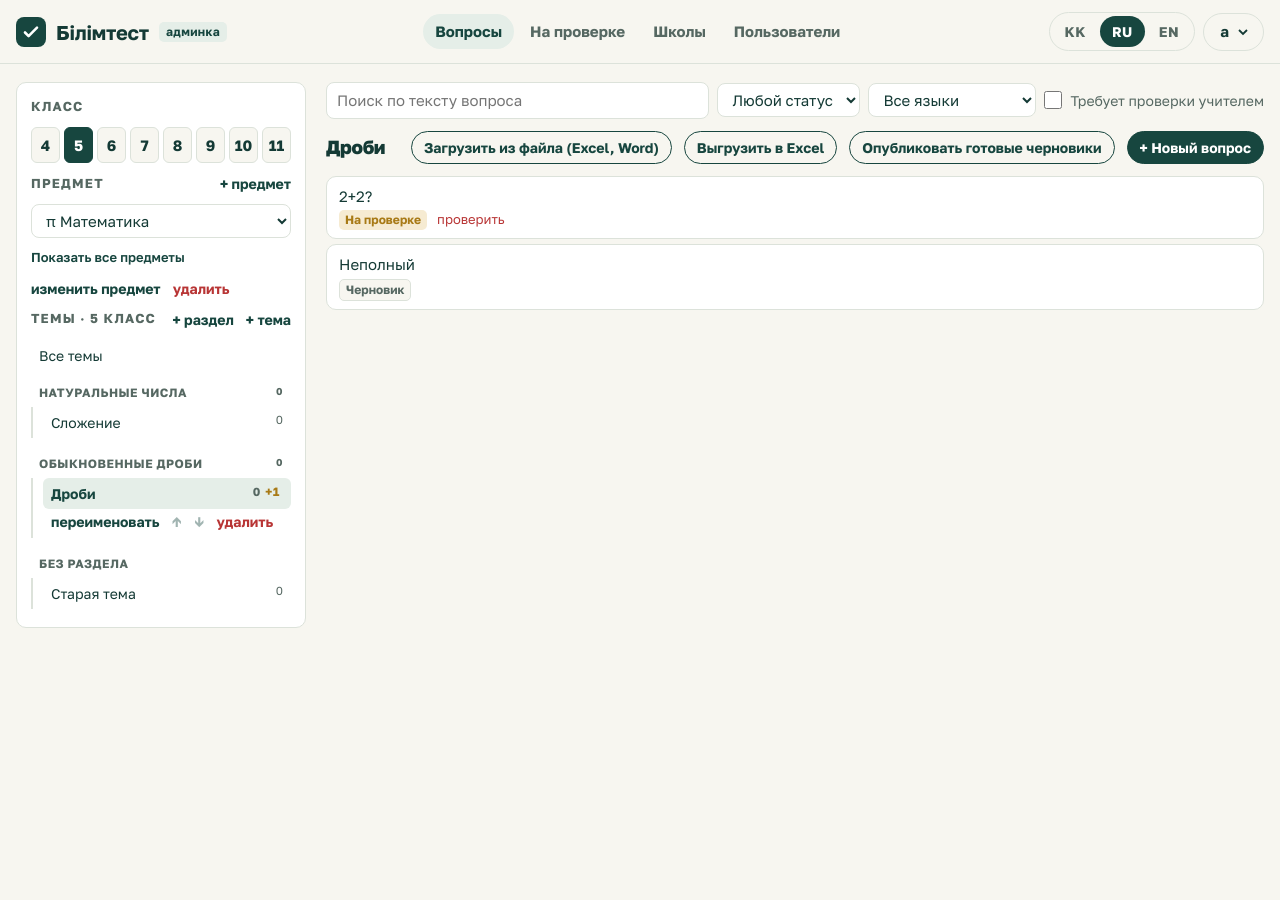
Test: админка › админ публикует вопрос из очереди проверки, сменив правильный ответ
Click the link "На проверке".
click(578, 31)  # box [530,22,625,40]
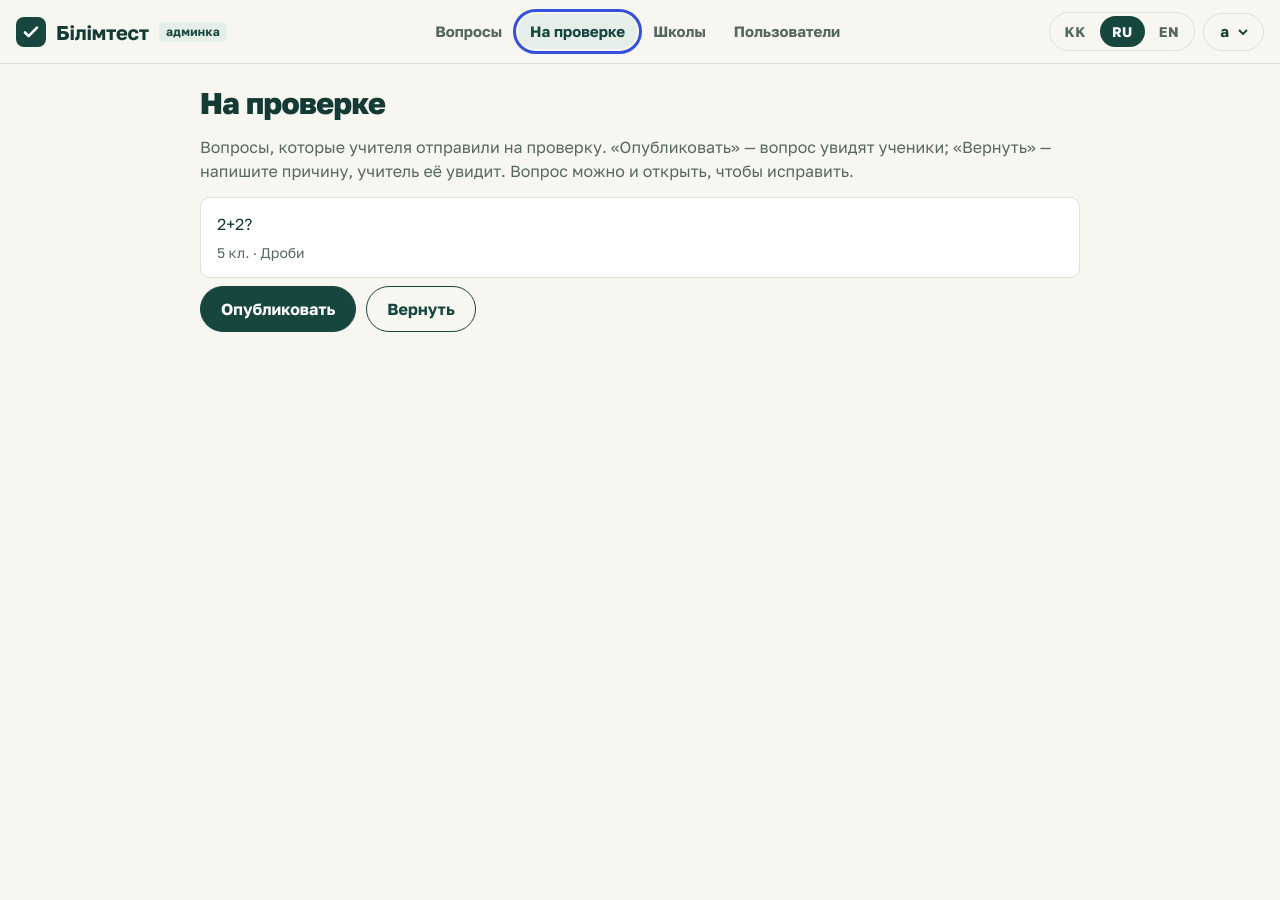
Click the link "2+2? 5 кл. · Дроби".
click(235, 224)  # box [200,196,1080,278]
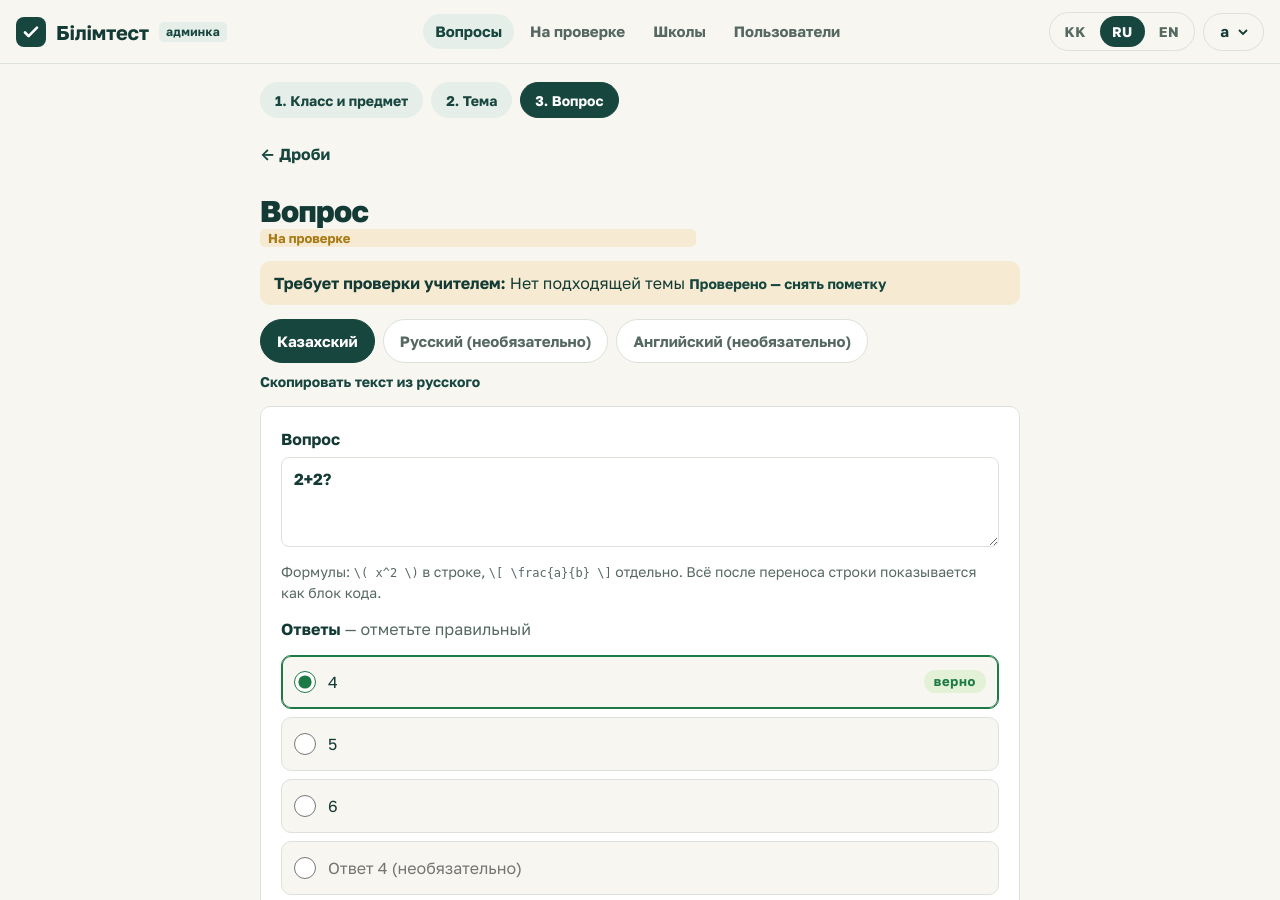
Click the radio button named "Вариант B правильный".
click(305, 744)  # box [294,733,316,755]
(page scrolled)
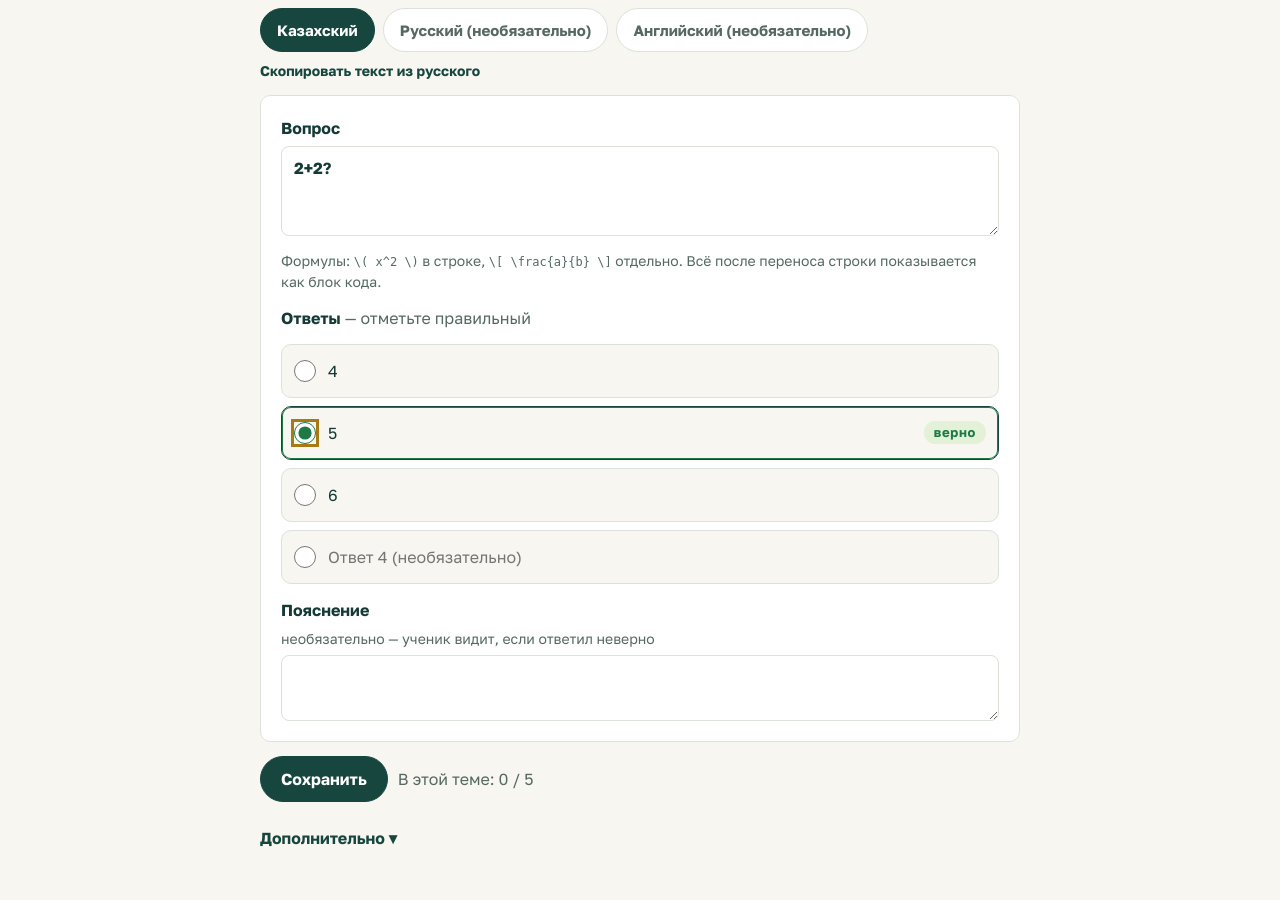
Click the button "Сохранить".
click(324, 779)  # box [260,756,388,802]
(page scrolled)
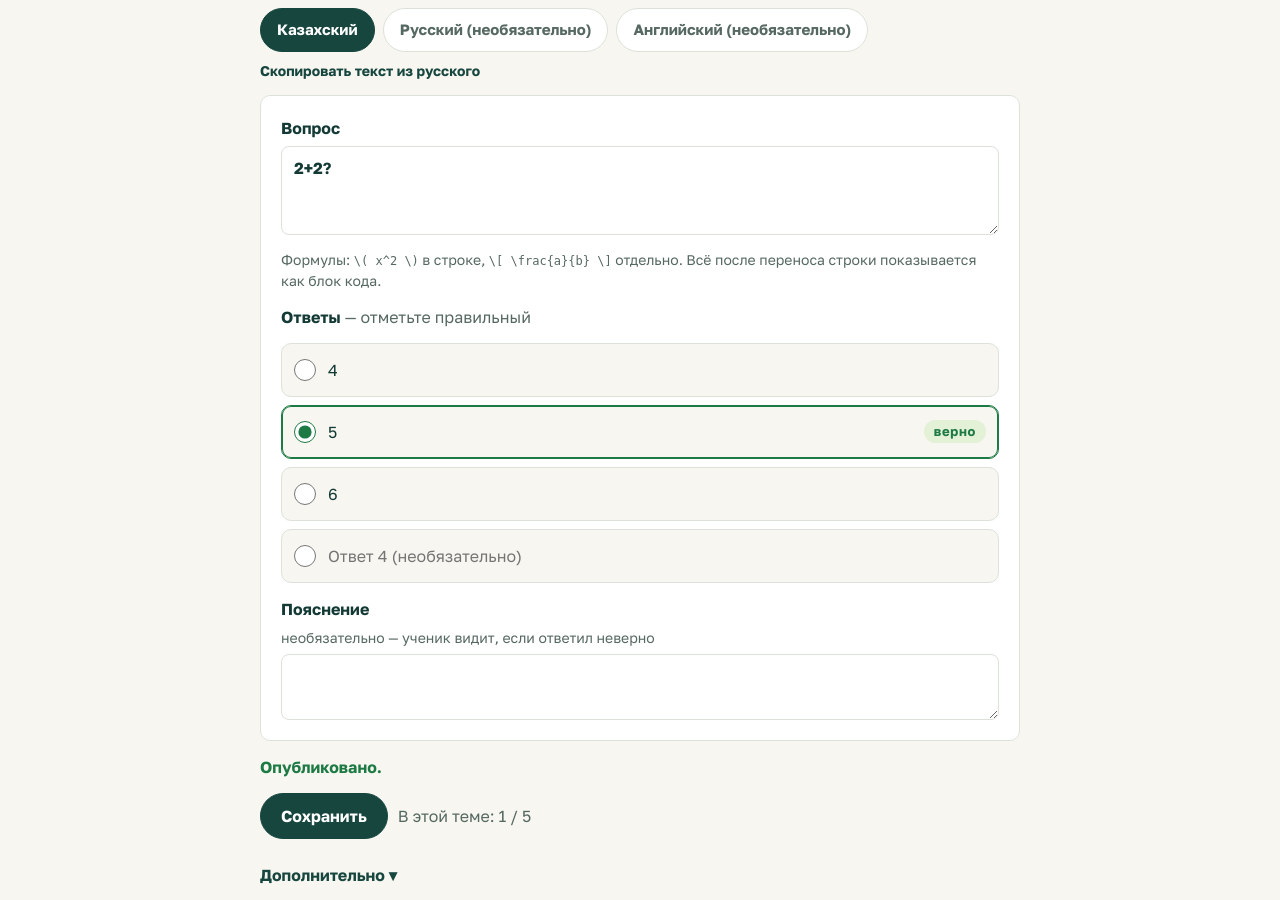
Expected: the text "Опубликовано." is shown, [260,758,382,778]
